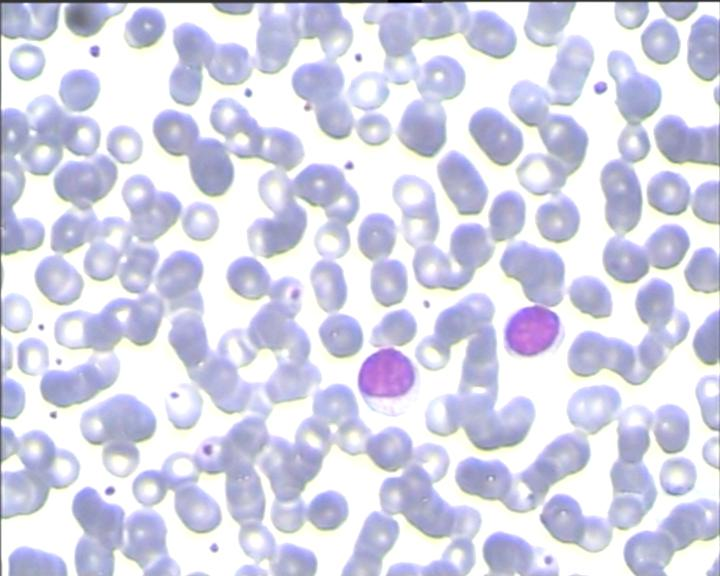lymp: (494, 298, 570, 365), (358, 345, 422, 418)
